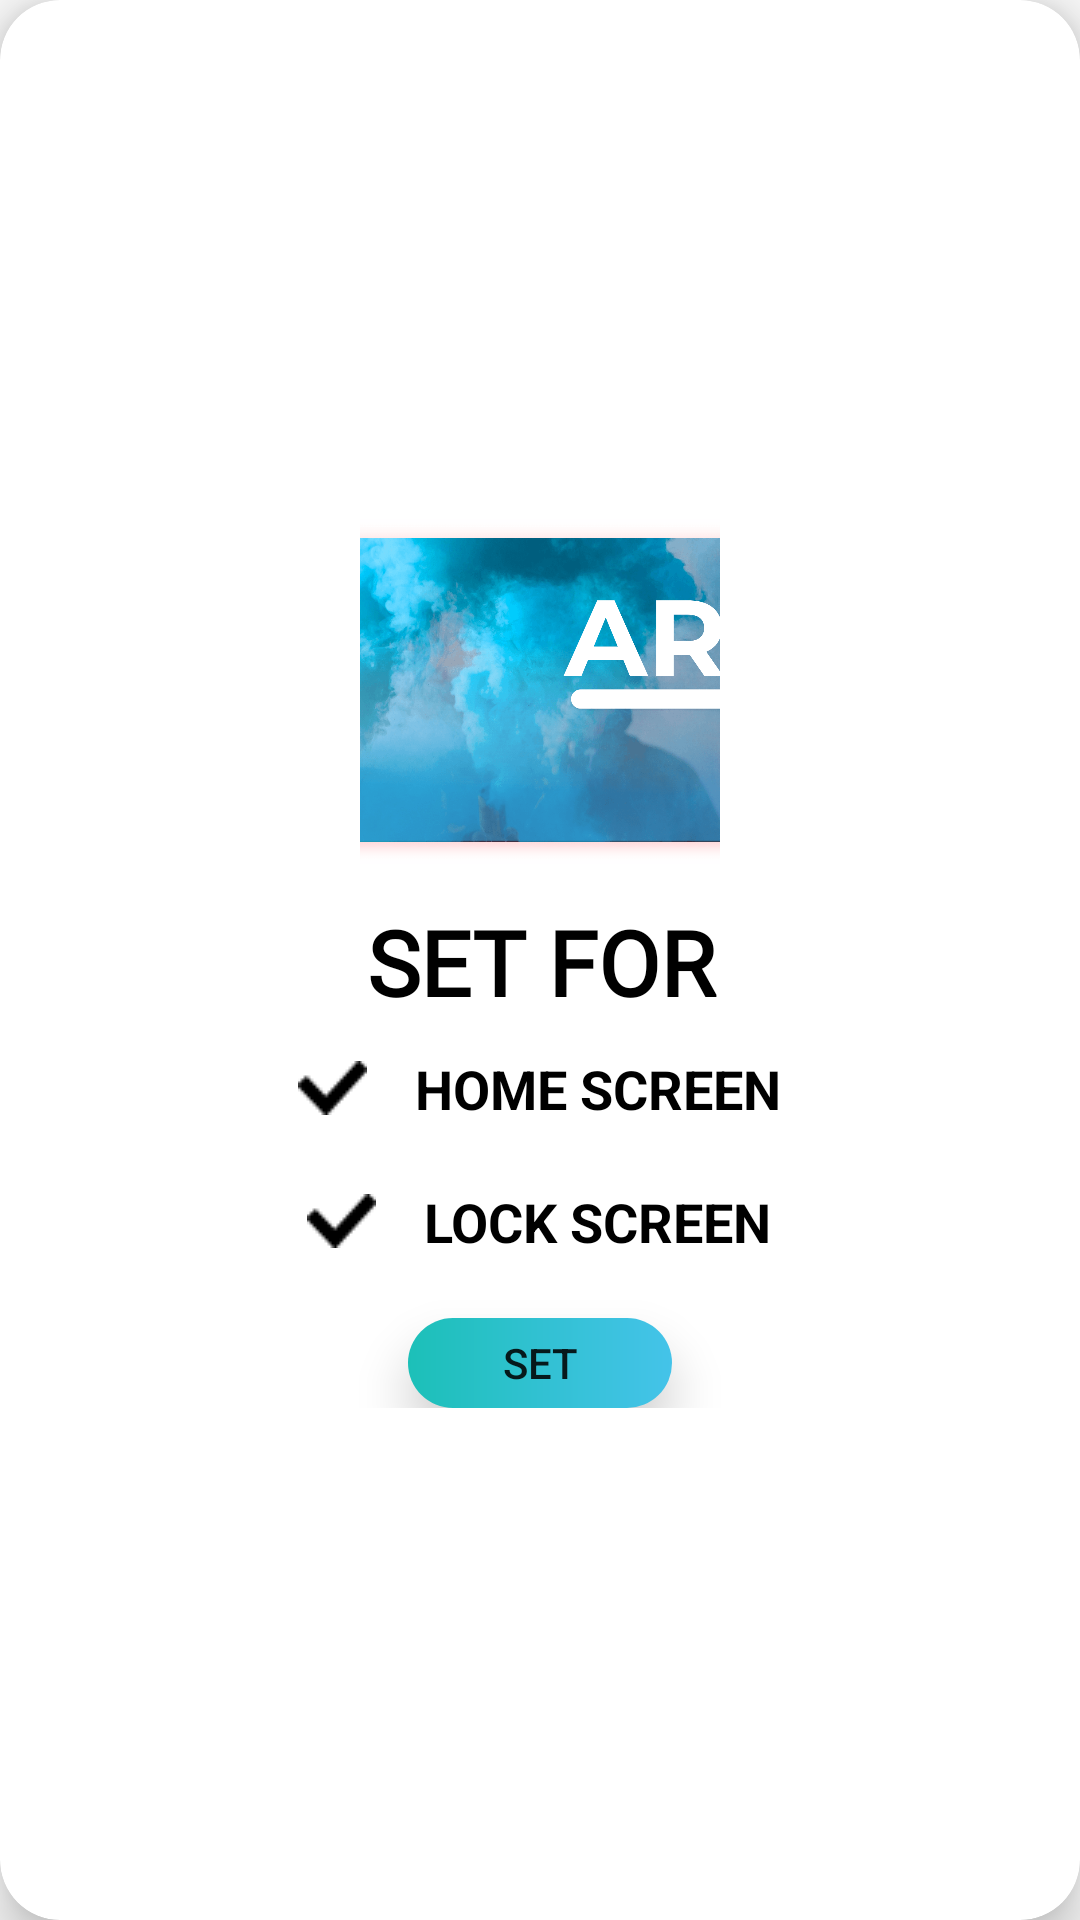

Named icons in this screenshot (1080x1920) and their bounding boxes, (x1, y1, x2, y2):
art card: (360, 538, 720, 847)
